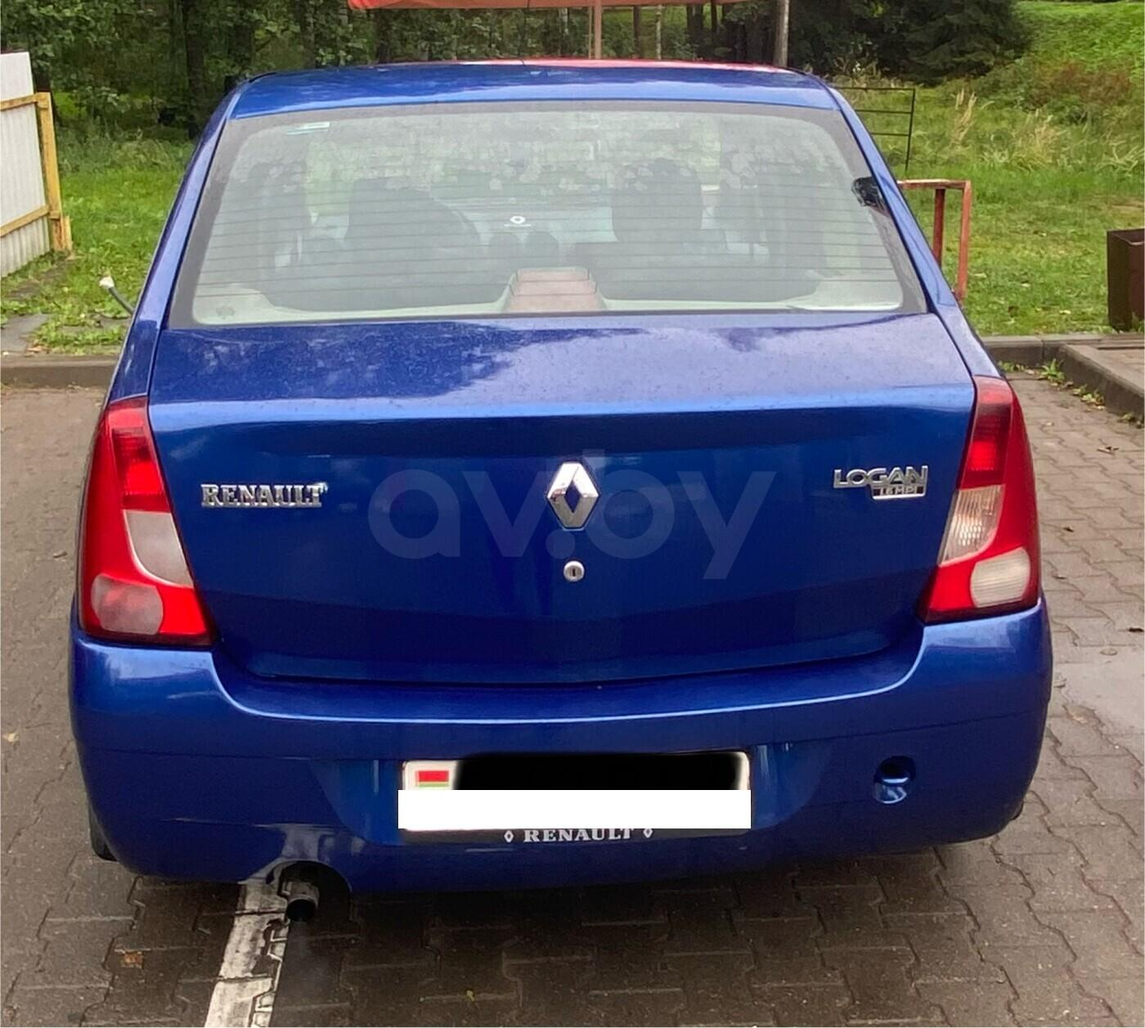Logan_2004-2009: (56, 55, 1059, 913)
